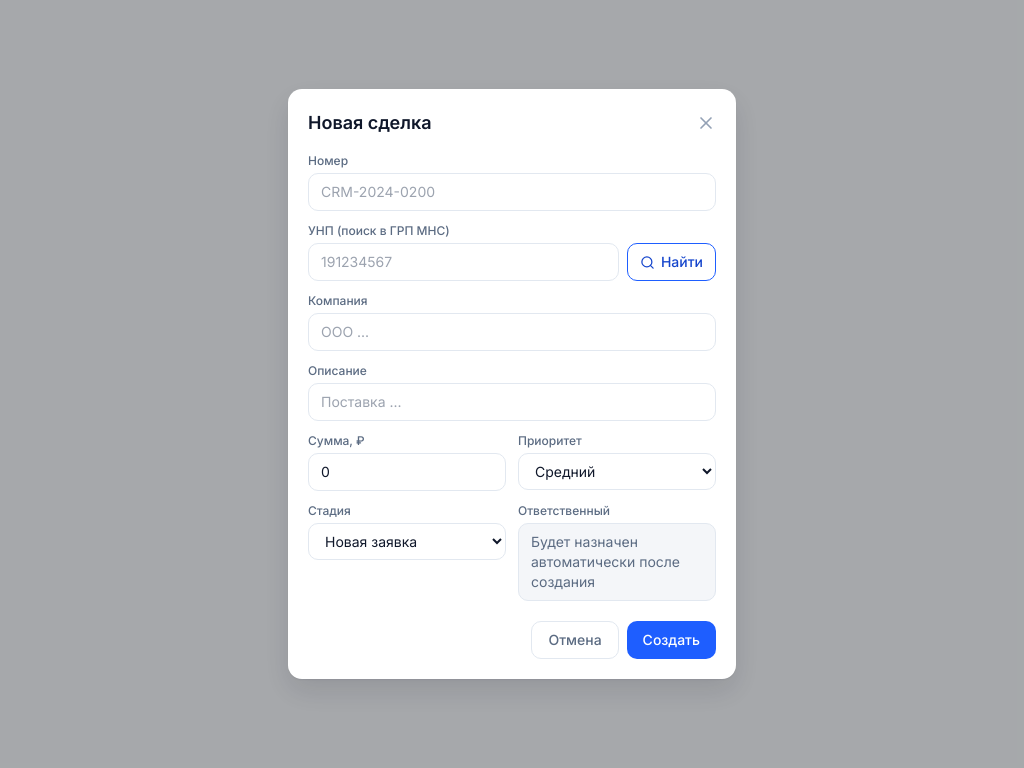
Test case: CreateDealModal › сообщает, если по УНП ничего не найдено
Type "000000000" into the field with placeholder "191234567" at (463,262), box [308,243,619,281]
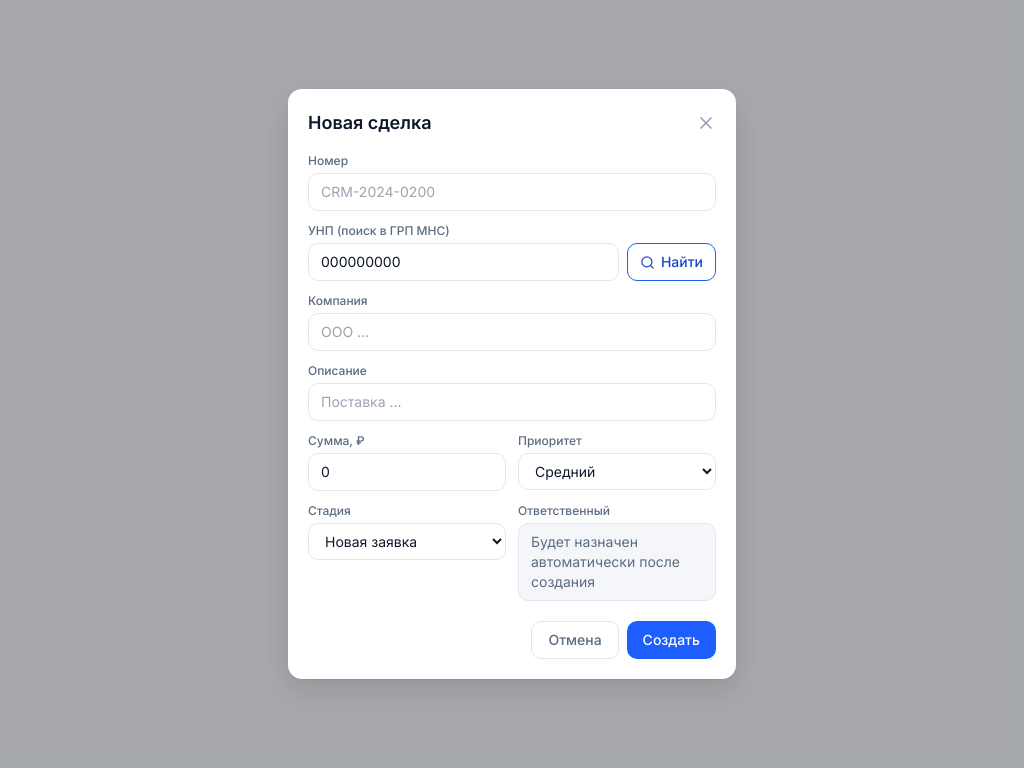
Click the button "Найти" at (671,262), box [627,243,716,281]
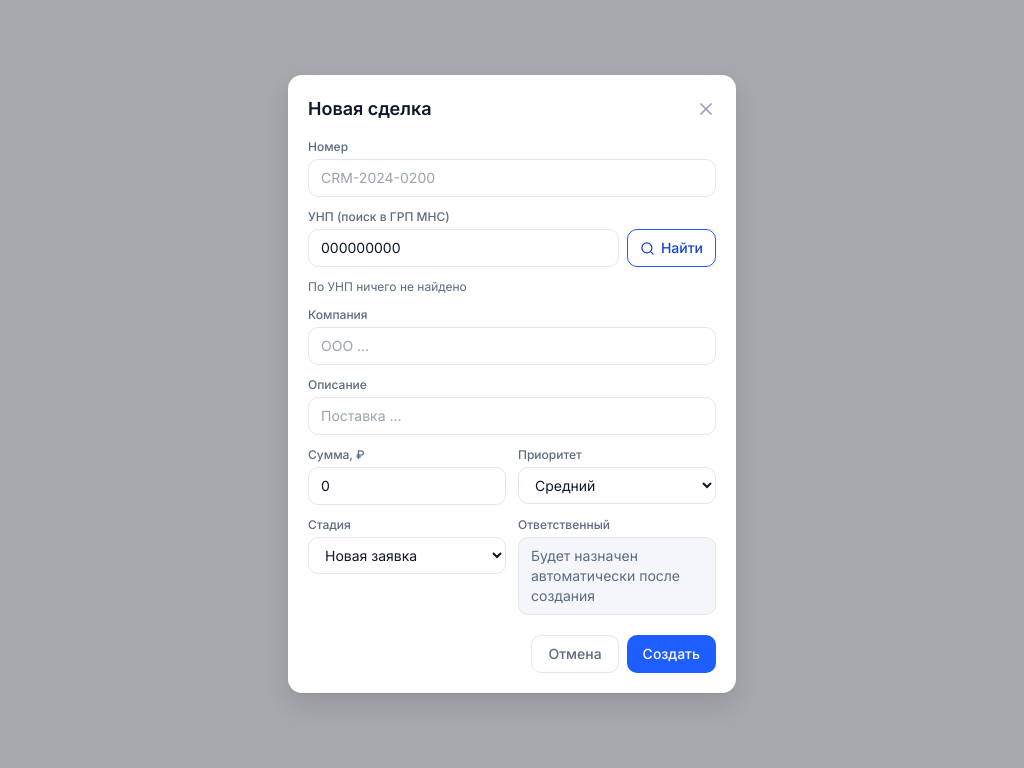
expect the text "По УНП ничего не найдено" is shown: met, box [308,279,467,294]
